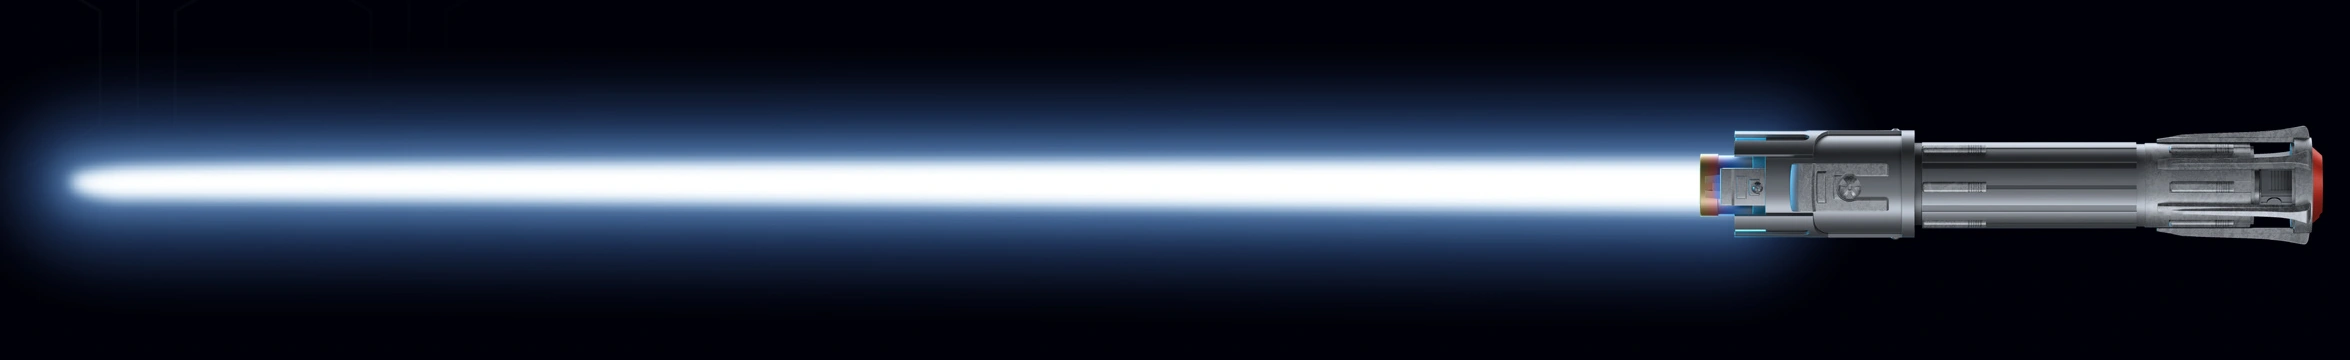Dalek: (45, 99, 2331, 264)
